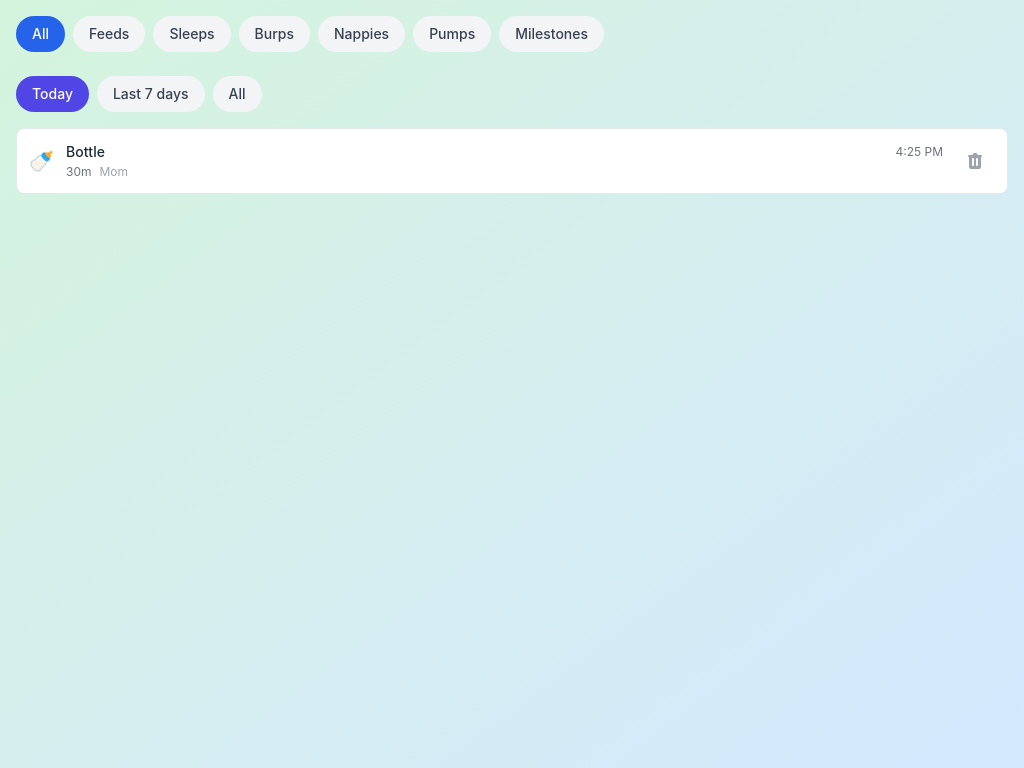
Test: History — delete events › shows delete confirmation dialog when delete button is clicked
Expected: the text "Bottle" is shown, [66, 142, 105, 162]
Click the button named "Delete event" at (975, 161), box [955, 141, 995, 181]
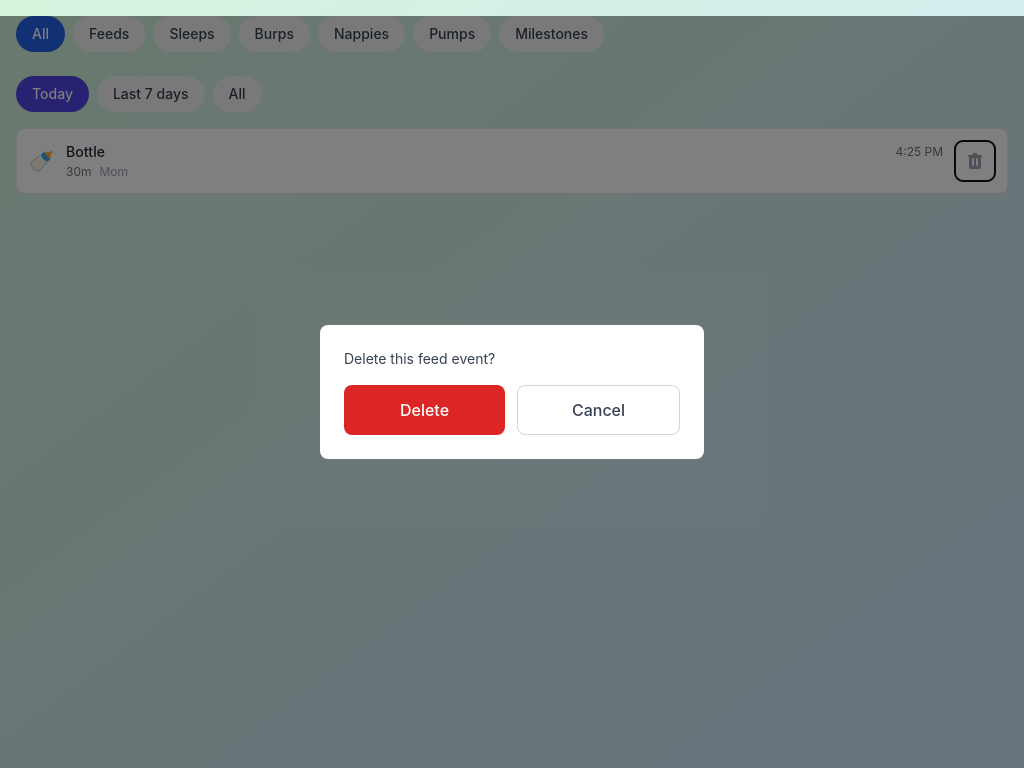
Expected: the text "Delete this feed event?" is shown, [344, 350, 495, 367]
Expected: the button "Delete" is shown, [344, 385, 505, 435]
Expected: the button "Cancel" is shown, [517, 385, 680, 435]
